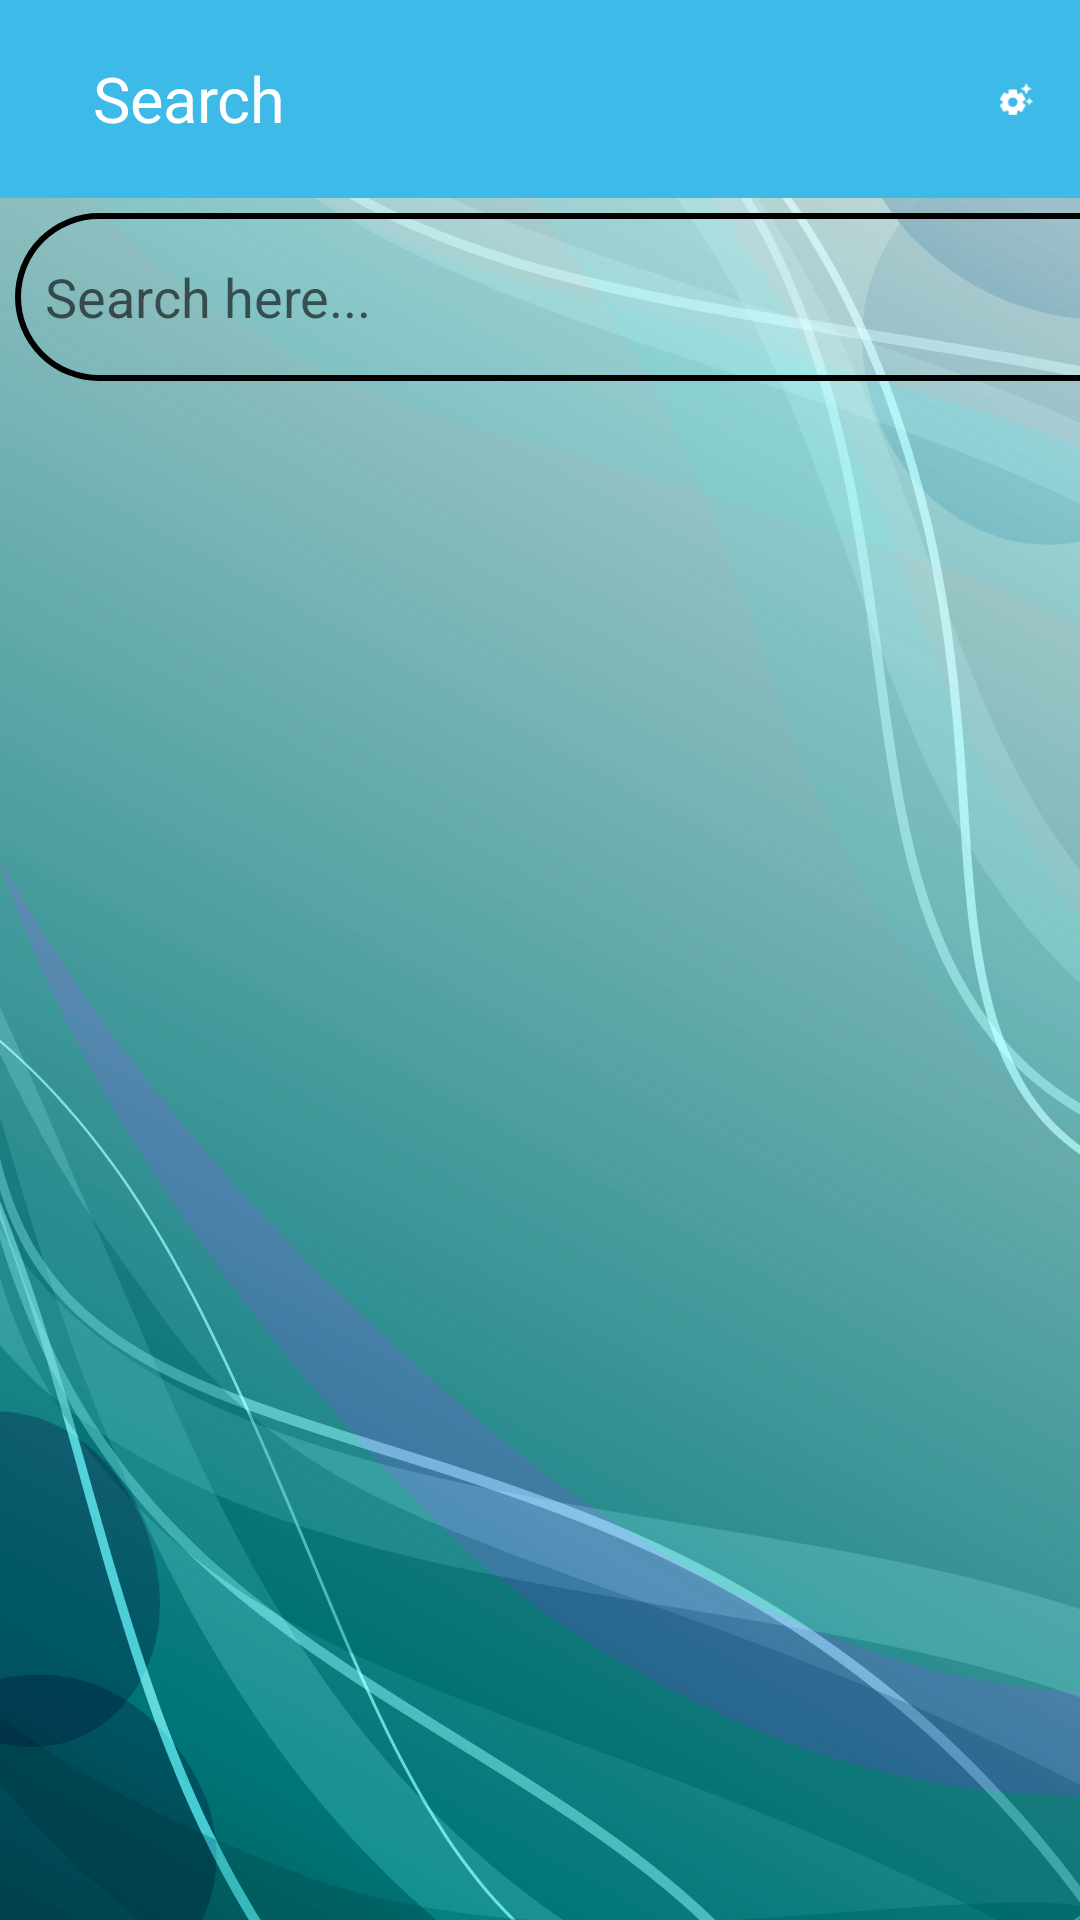

Named icons in this screenshot (1080px×1920px) and their bounding boxes, (x1, y1, x2, y2):
settings: (1000, 83, 1033, 115)
